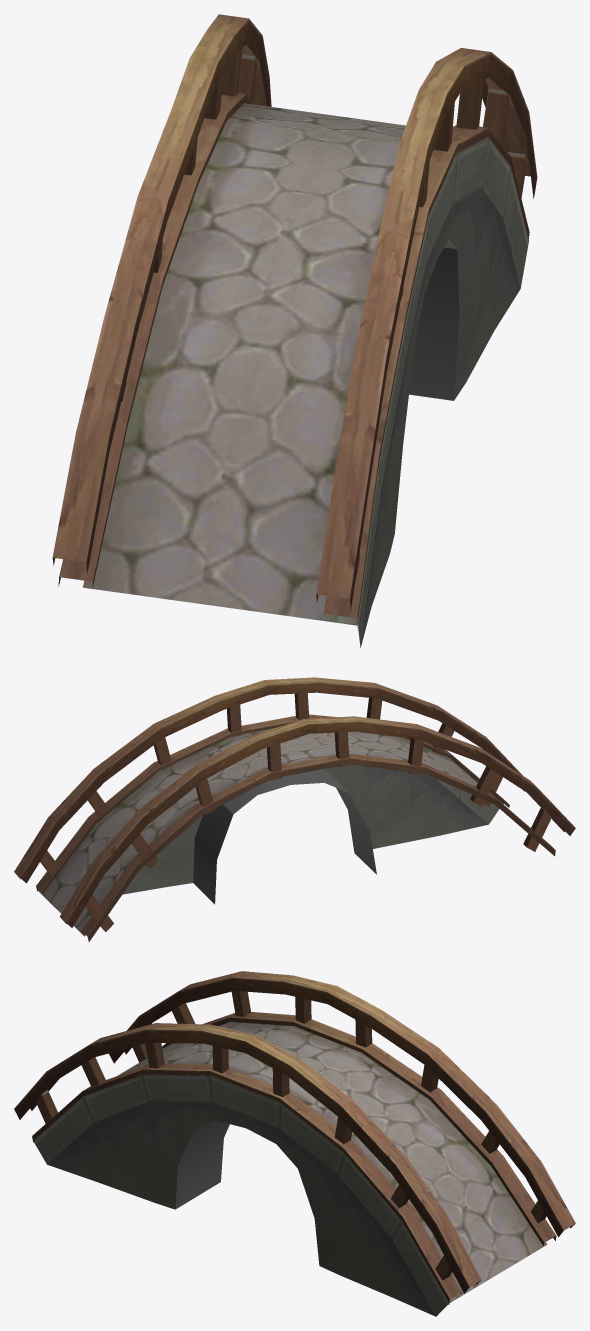
The model's file is map_xuanren_wujian4.fbx.
3 views of the same model, one above another, from view 1: azimuth 30°, elevation 25°; view 2: azimuth 150°, elevation 25°; view 3: azimuth 270°, elevation 25° (orthographic). The views are drawn at different scales.
Parts seen in each view (by area): view 1: xuanrenbh_qiao01; view 2: xuanrenbh_qiao01; view 3: xuanrenbh_qiao01.
Boxes of the visible parts, x1,y1,x2,y2 form: xuanrenbh_qiao01: (52,14,537,647); xuanrenbh_qiao01: (14,677,575,941); xuanrenbh_qiao01: (14,971,575,1316).
Bounding box in the file's own units: 1.45 × 0.6888 × 1.61.
